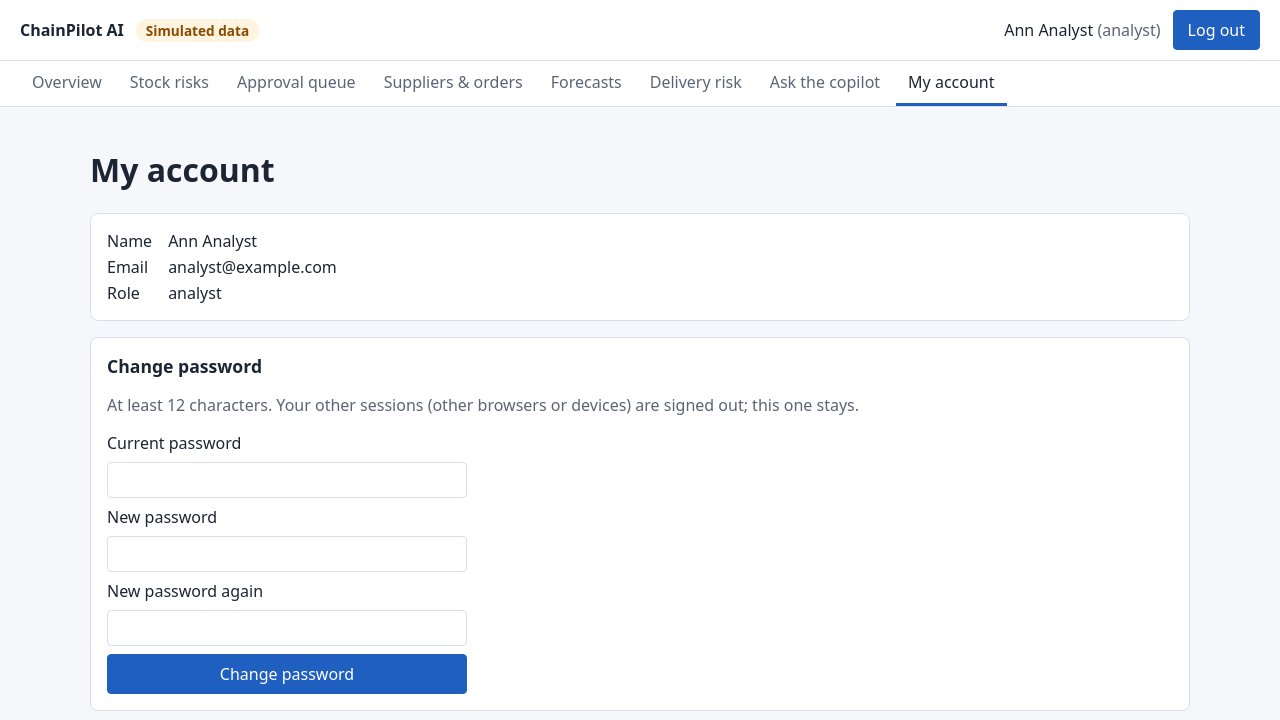
my account › changes the password and clears the form
The width and height of the screenshot is (1280, 720).
Expected: the heading "My account" is shown, 90,148 -> 275,191
Type "old-password-123" into the password field labelled "Current password". click: (287,480)
box: 107,462 -> 467,498
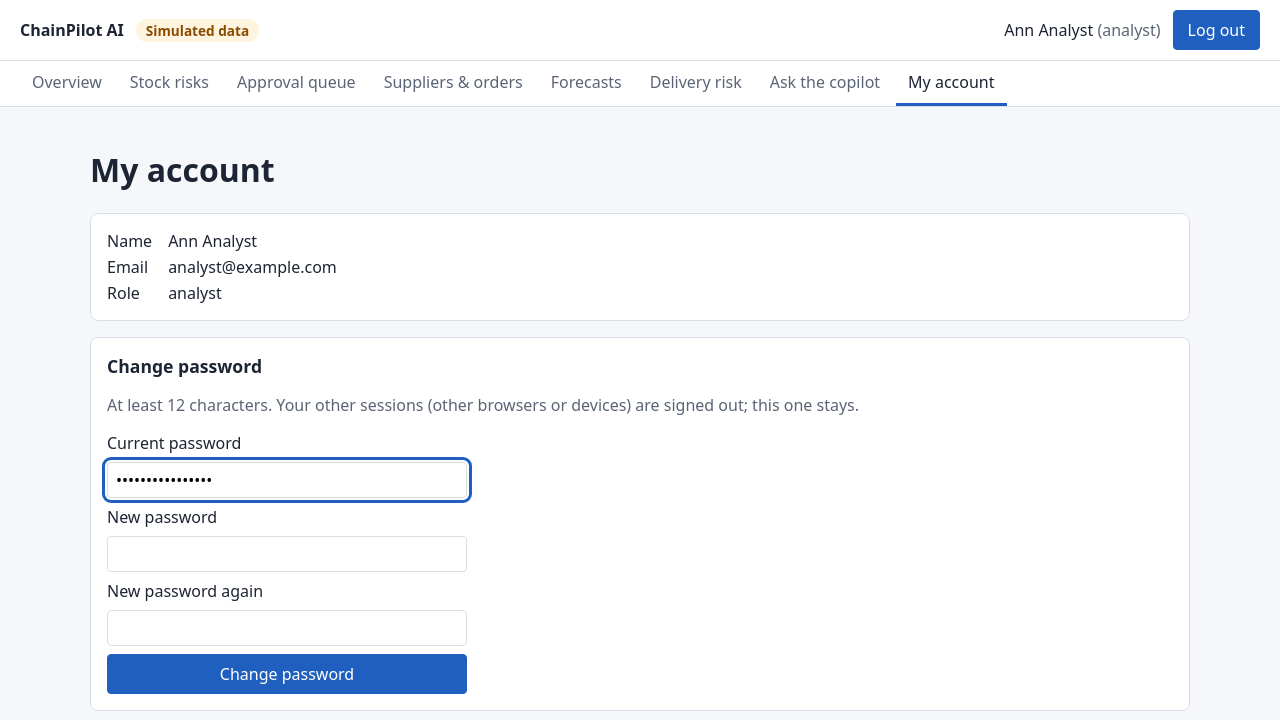
Type "a-brand-new-password" into the password field labelled "New password". click: (287,554)
box: 107,536 -> 467,572
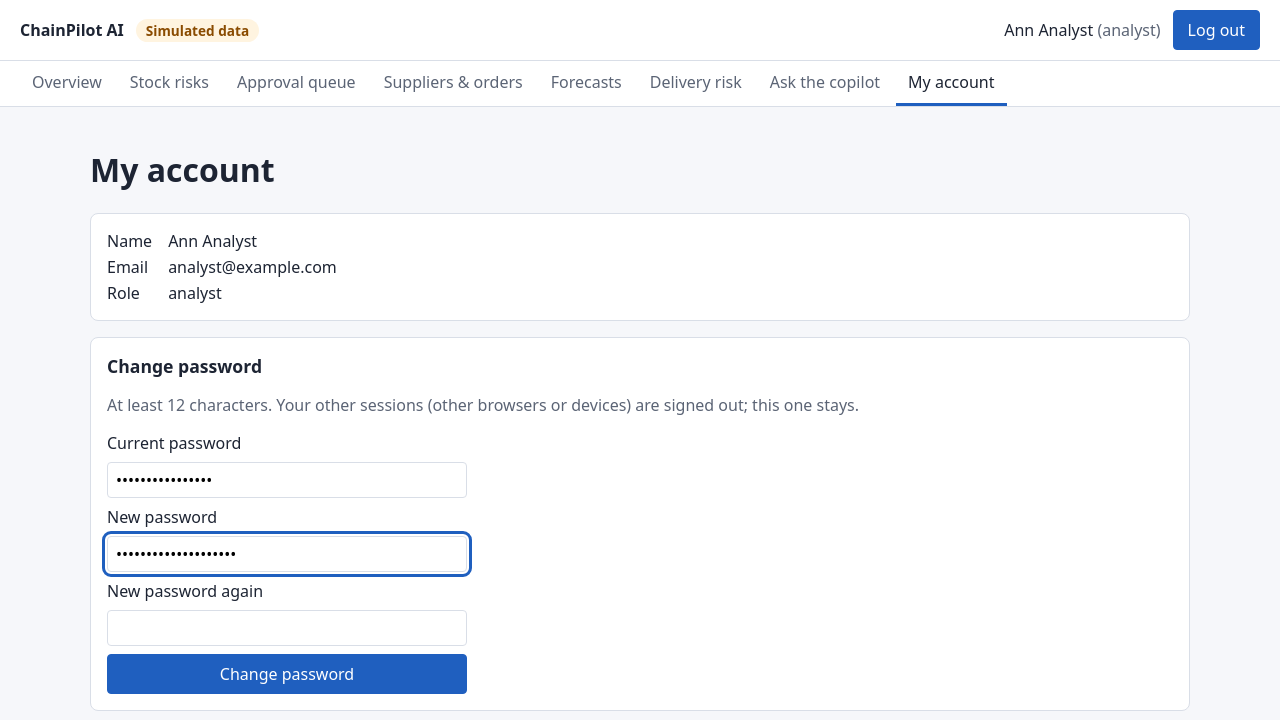
Type "a-brand-new-password" into the password field labelled "New password again". click: (287,628)
box: 107,610 -> 467,646
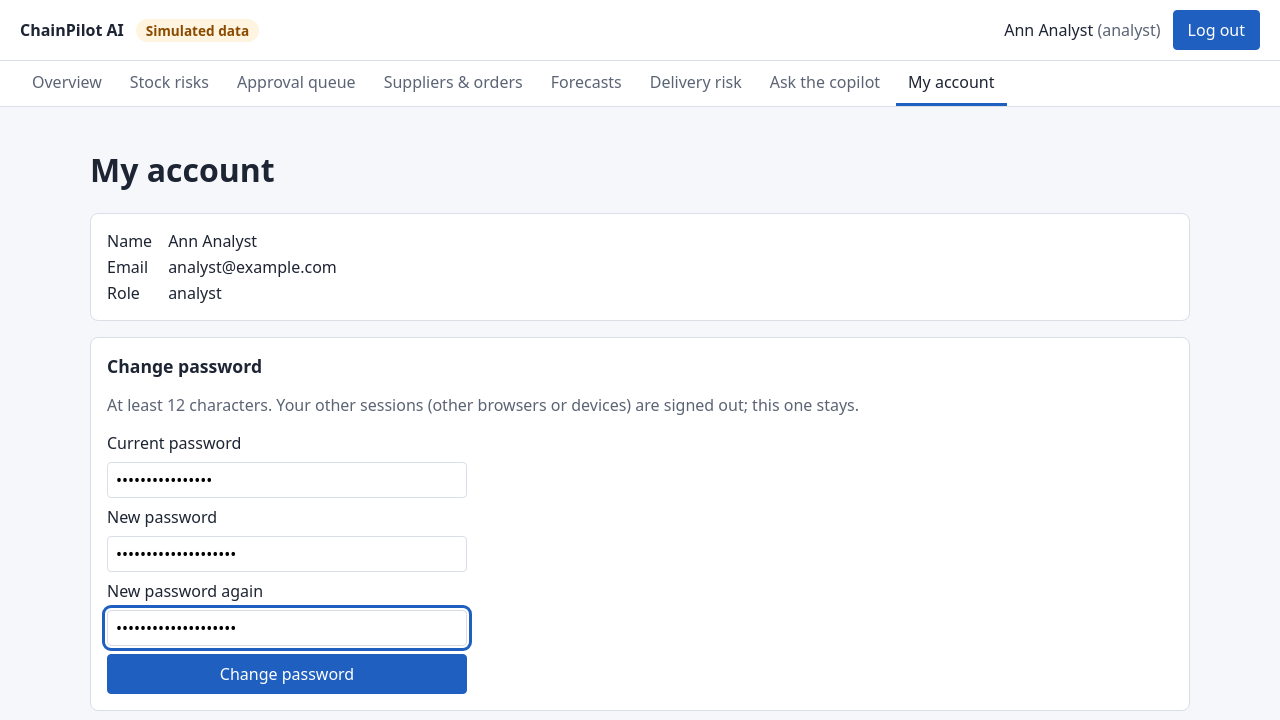
Click the button "Change password". click: (287,674)
box: 107,654 -> 467,694
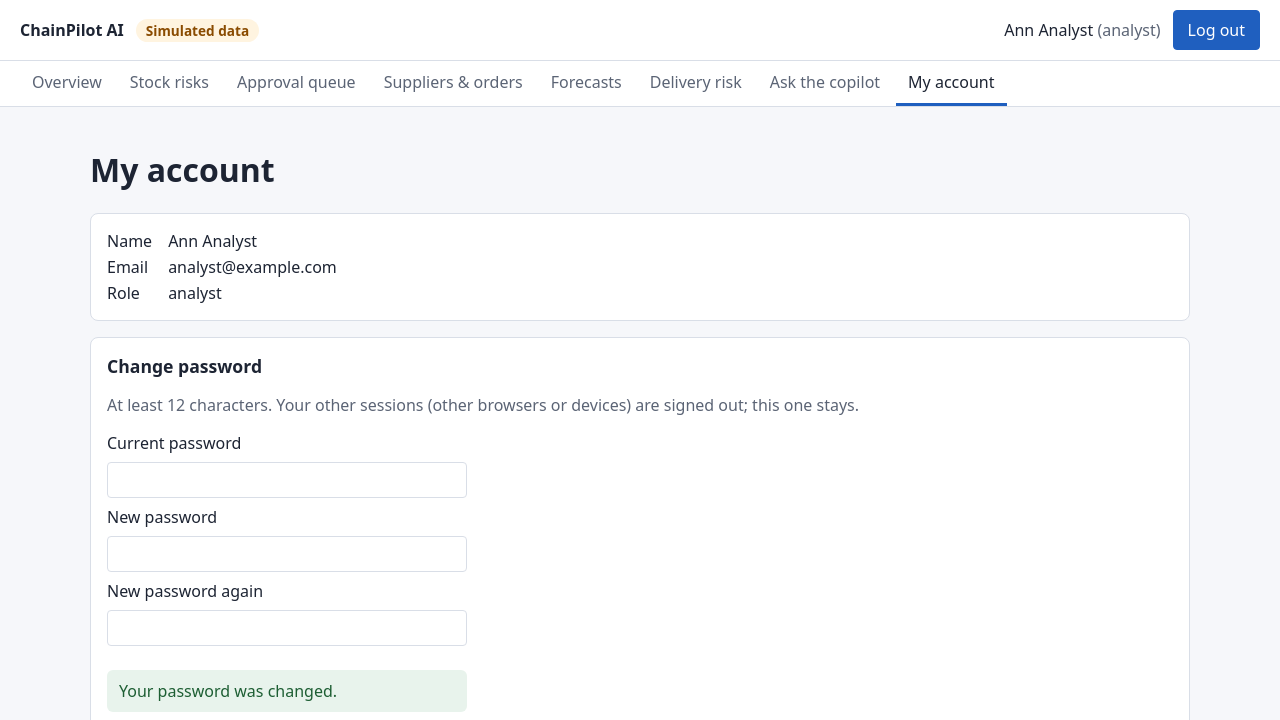
Now the message reads "Your password was changed.", box 119,680 -> 337,702
Now the password field labelled "New password" is empty, box 107,536 -> 467,572
